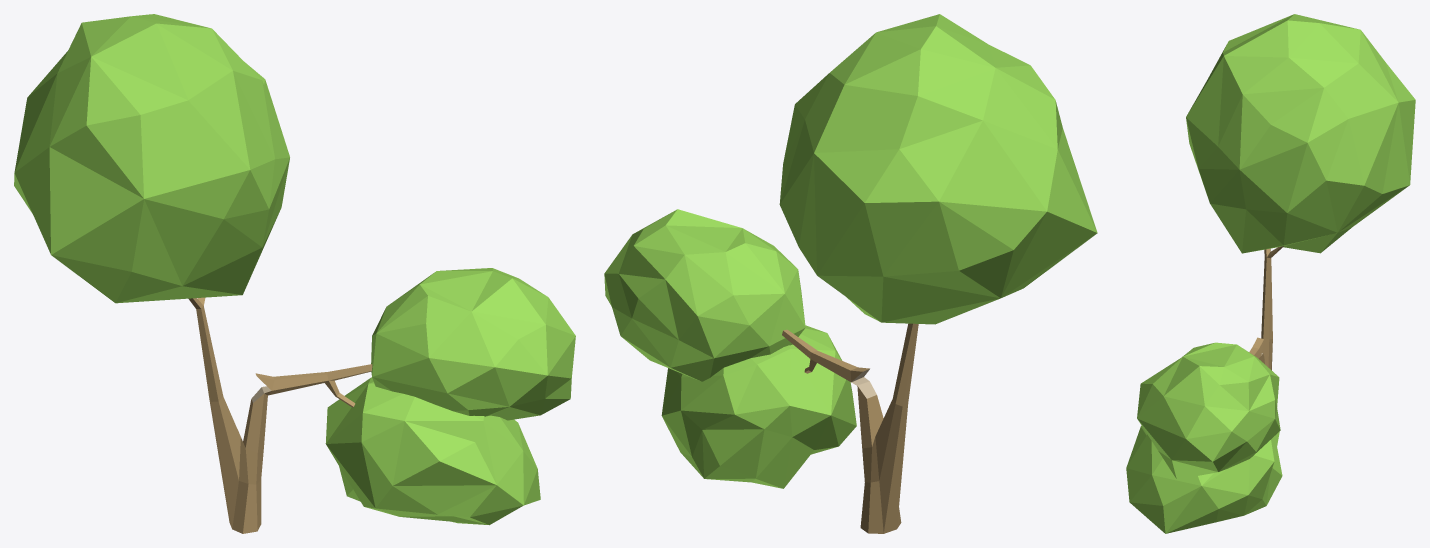
The model's file is Apple_Tree_crk_m_04_LOD.fbx.
The picture shows the model from 3 angles, left to right: view 1: azimuth 30°, elevation 25°; view 2: azimuth 150°, elevation 25°; view 3: azimuth 270°, elevation 25°; orthographic projection. The views are drawn at different scales.
Parts seen in each view (by area): view 1: Apple_Tree_crk_m_04_LOD0; view 2: Apple_Tree_crk_m_04_LOD0; view 3: Apple_Tree_crk_m_04_LOD0.
Boxes of the visible parts, left/top/right/bottom form: Apple_Tree_crk_m_04_LOD0: left=14, top=14, right=575, bottom=533; Apple_Tree_crk_m_04_LOD0: left=604, top=14, right=1097, bottom=533; Apple_Tree_crk_m_04_LOD0: left=1126, top=14, right=1415, bottom=533.
Size of what is drawn, in the model's own units: 869 by 869 by 558.
